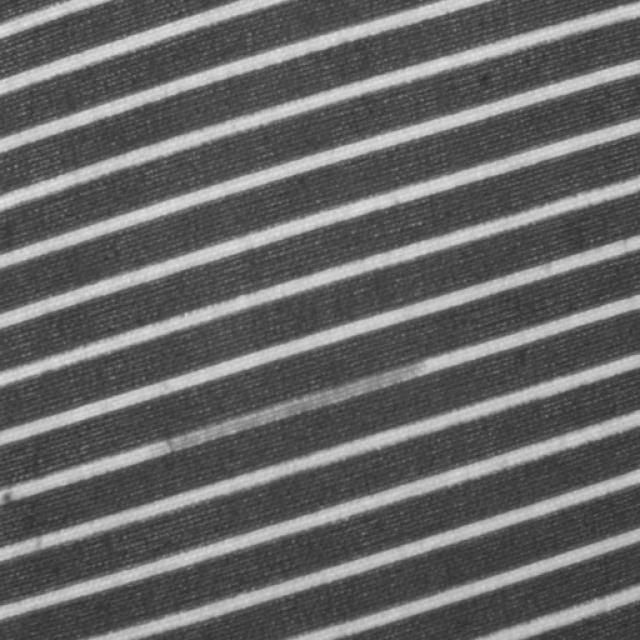Stain-Defect: (126, 350, 464, 464)
